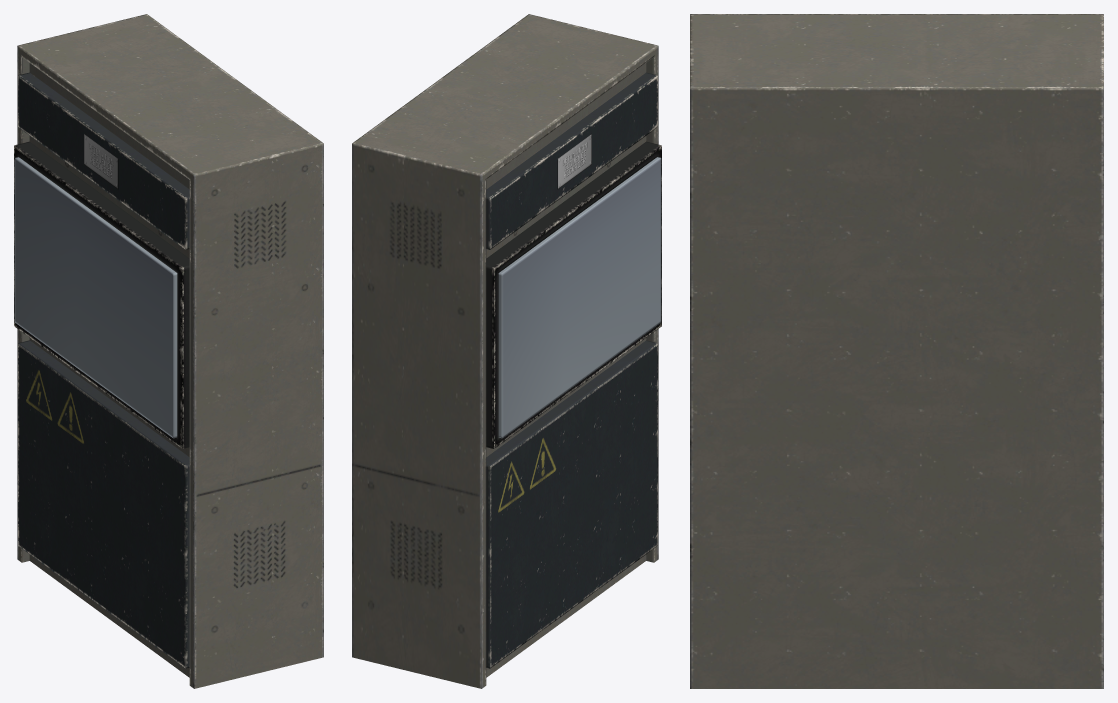
Rendered from AnalogServer.fbx.
3 views of the same model, side by side, from view 1: azimuth 30°, elevation 25°; view 2: azimuth 150°, elevation 25°; view 3: azimuth 270°, elevation 25° (orthographic). The views are drawn at different scales.
Visible parts, largest first — view 1: Server, Glass, Quad; view 2: Server, Glass, Quad; view 3: Server.
Boxes of the visible parts, x1,y1,x2,y2 form: Server: [14, 14, 323, 688]; Glass: [14, 157, 177, 438]; Quad: [84, 134, 118, 189]; Server: [352, 14, 661, 688]; Glass: [498, 157, 661, 438]; Quad: [557, 134, 591, 189]; Server: [690, 14, 1103, 688].
Size of the model in its own units: 0.9023 by 3.13 by 1.96.
4 materials, 4 textured.
